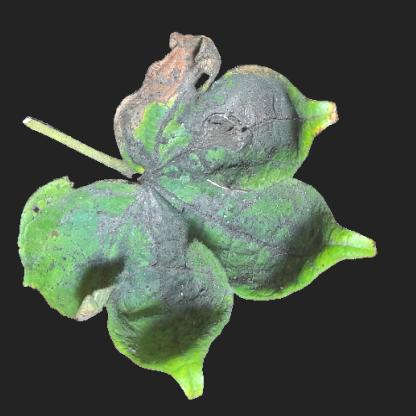curl_stage1: (177, 357, 203, 389), (334, 237, 366, 261)
sooty: (195, 197, 322, 285), (114, 211, 189, 334), (195, 85, 290, 177), (29, 188, 111, 288), (125, 155, 203, 253), (136, 62, 202, 162)
